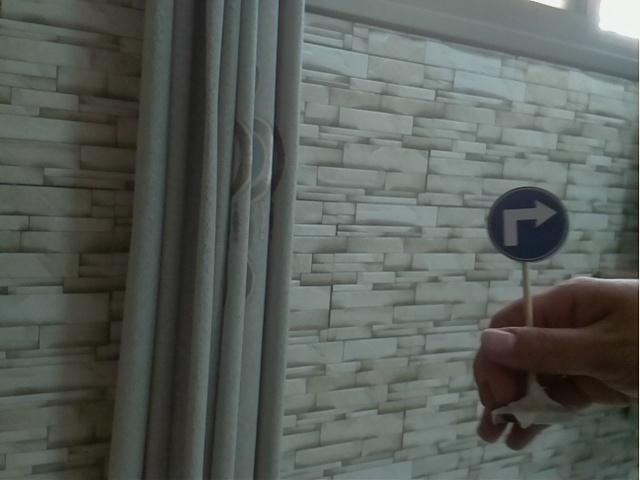turn: (485, 185, 573, 266)
